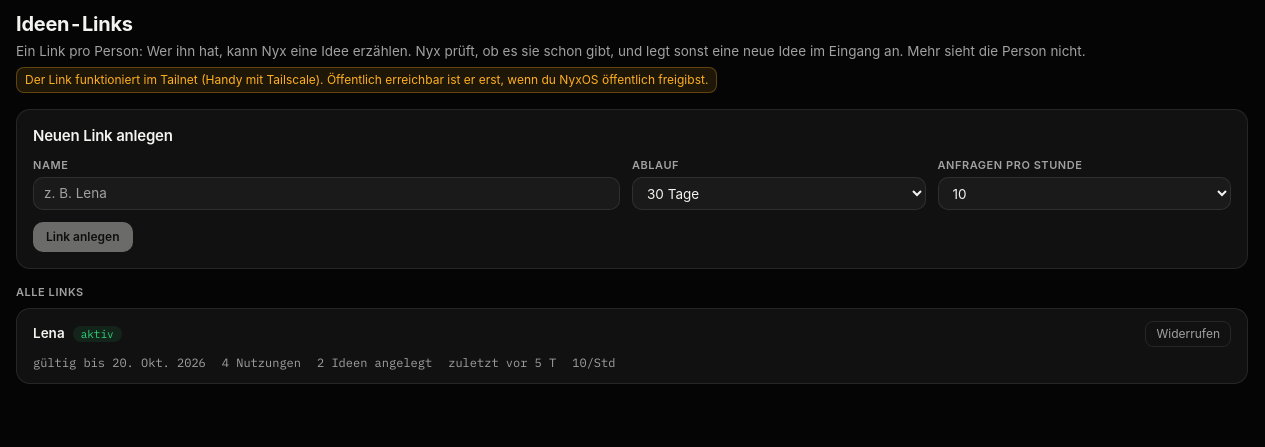
Test: Ideen-Links › widerruft nach Bestätigung
The width and height of the screenshot is (1265, 447).
expect the list item "Lena" is shown: met, box [33,325,65,341]
expect the text "aktiv" is shown: met, box [73,326,122,342]
Click the button "Widerrufen" at point(1188, 334), box [1145,321,1231,347]
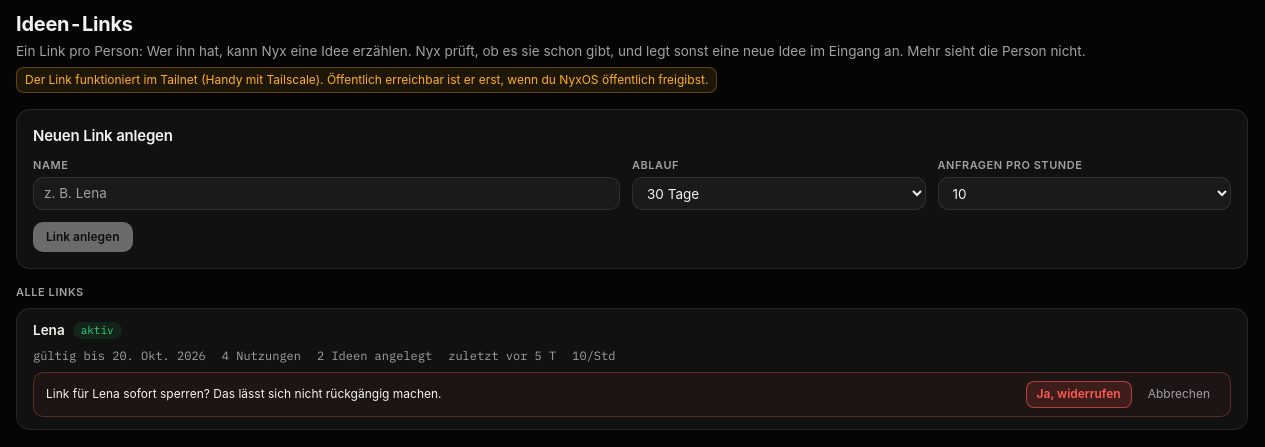
Click the button "Ja, widerrufen" at point(1079, 395), box [1026,382,1132,408]
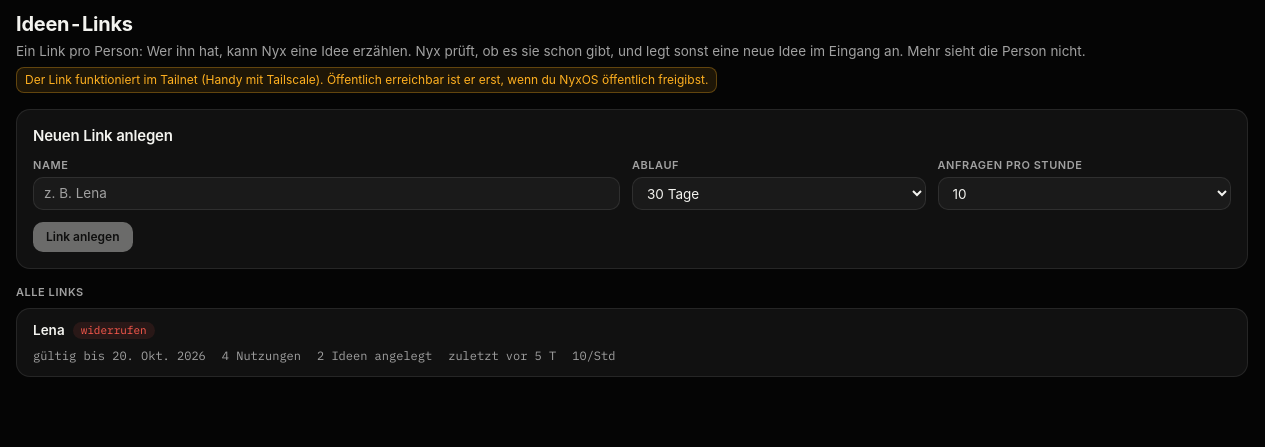
expect the text "widerrufen" is shown: met, box [73,322,155,339]
